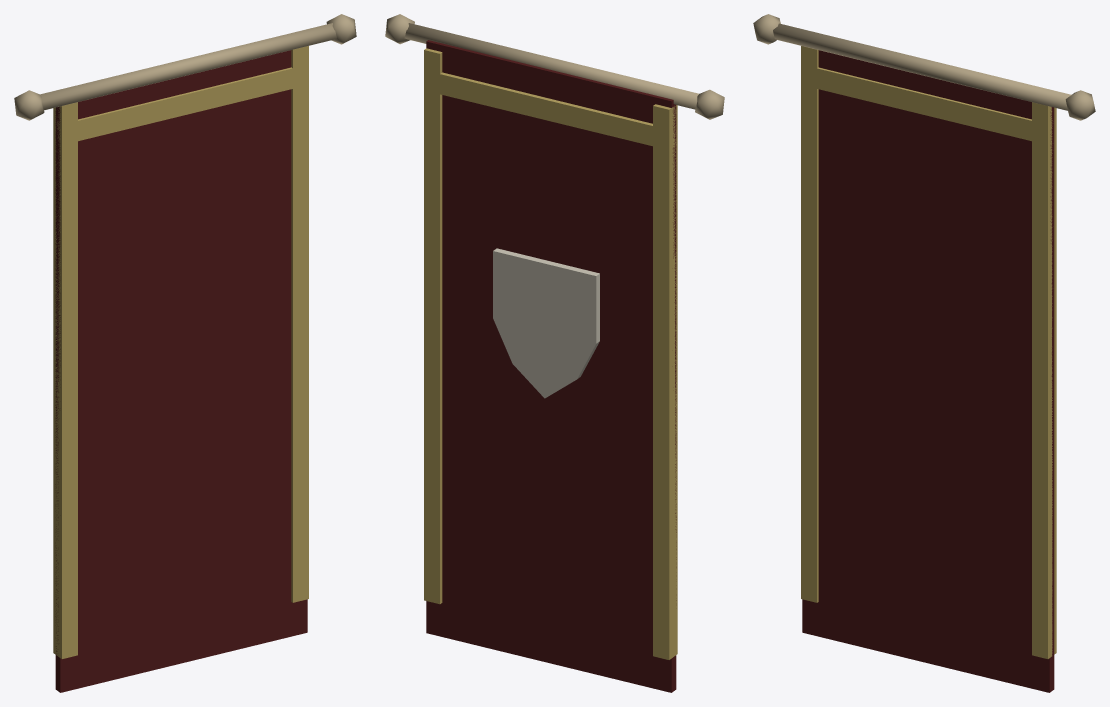
File: wither_beast_banner_v0.glb
3 renders of one model, left to right at view 1: azimuth 30°, elevation 25°; view 2: azimuth 150°, elevation 25°; view 3: azimuth 330°, elevation 25°, orthographic.
Parts seen in each view (by area): view 1: wither_beast_banner_v0; view 2: wither_beast_banner_v0; view 3: wither_beast_banner_v0.
Boxes of the visible parts, x1,y1,x2,y2 form: wither_beast_banner_v0: [14, 14, 356, 692]; wither_beast_banner_v0: [385, 14, 724, 692]; wither_beast_banner_v0: [753, 14, 1095, 692].
Bounding box in the file's own units: 1.04 × 1.8 × 0.0933.
